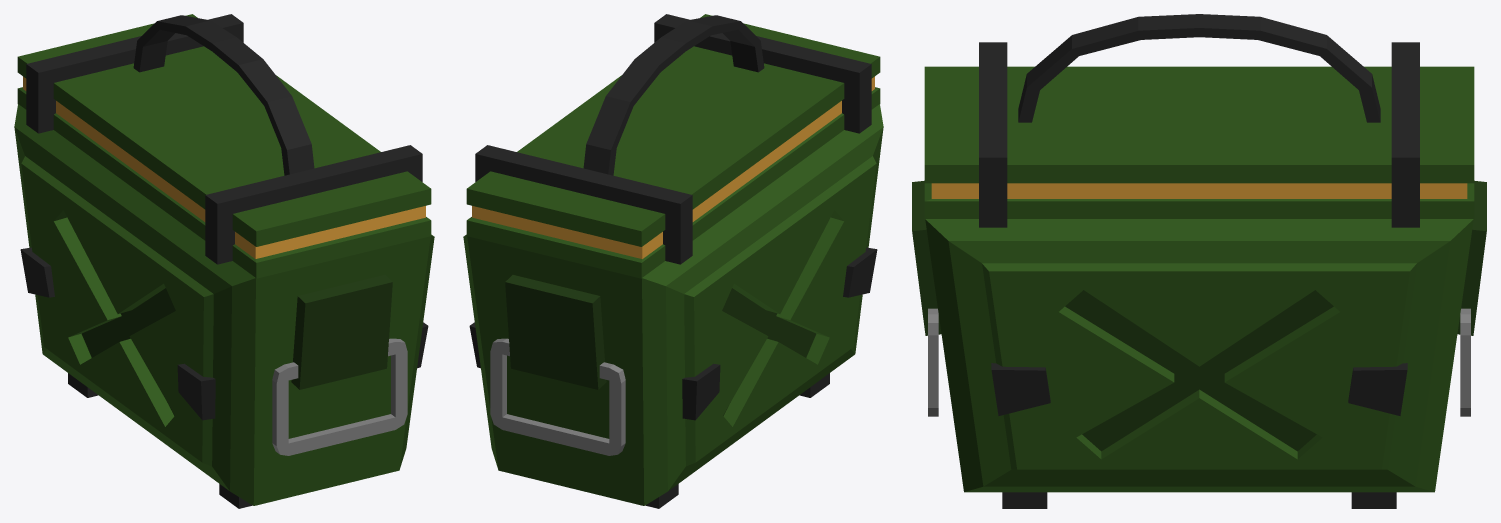
The model's file is AmmoBox.fbx.
3 renders of one model, left to right at view 1: azimuth 30°, elevation 25°; view 2: azimuth 150°, elevation 25°; view 3: azimuth 270°, elevation 25°, orthographic. The views are drawn at different scales.
Visible parts, largest first — view 1: Cube; view 2: Cube; view 3: Cube.
Boxes of the visible parts, bbox=[...] form: Cube: bbox=[14, 14, 434, 508]; Cube: bbox=[463, 14, 883, 508]; Cube: bbox=[912, 14, 1486, 508].
Size of the model in its own units: 156 by 255 by 296.
